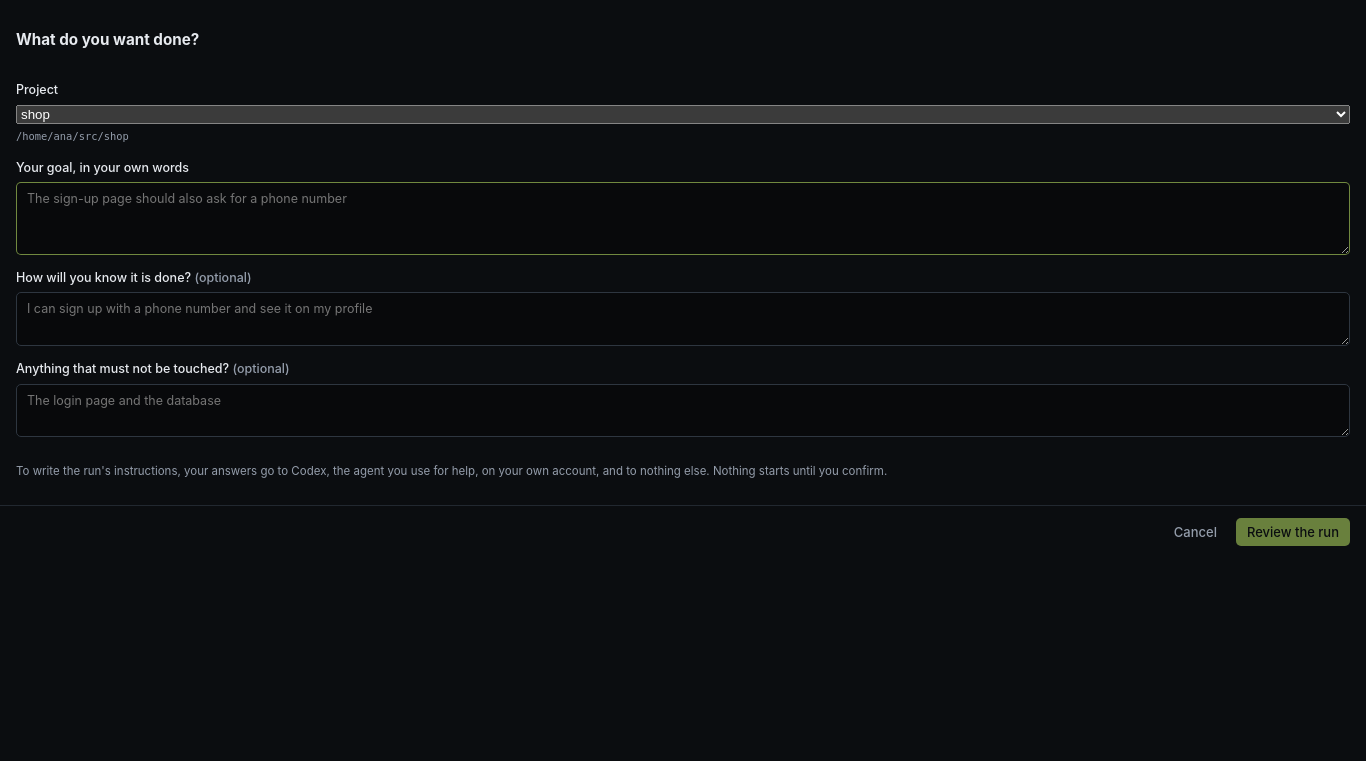
Test: guided run › uses the answers when the helper agent fails, and says why
The width and height of the screenshot is (1366, 761).
Type "Add dark mode" into the text box labelled "Your goal, in your own words" at {"x": 683, "y": 218}, box [16,182,1350,255]
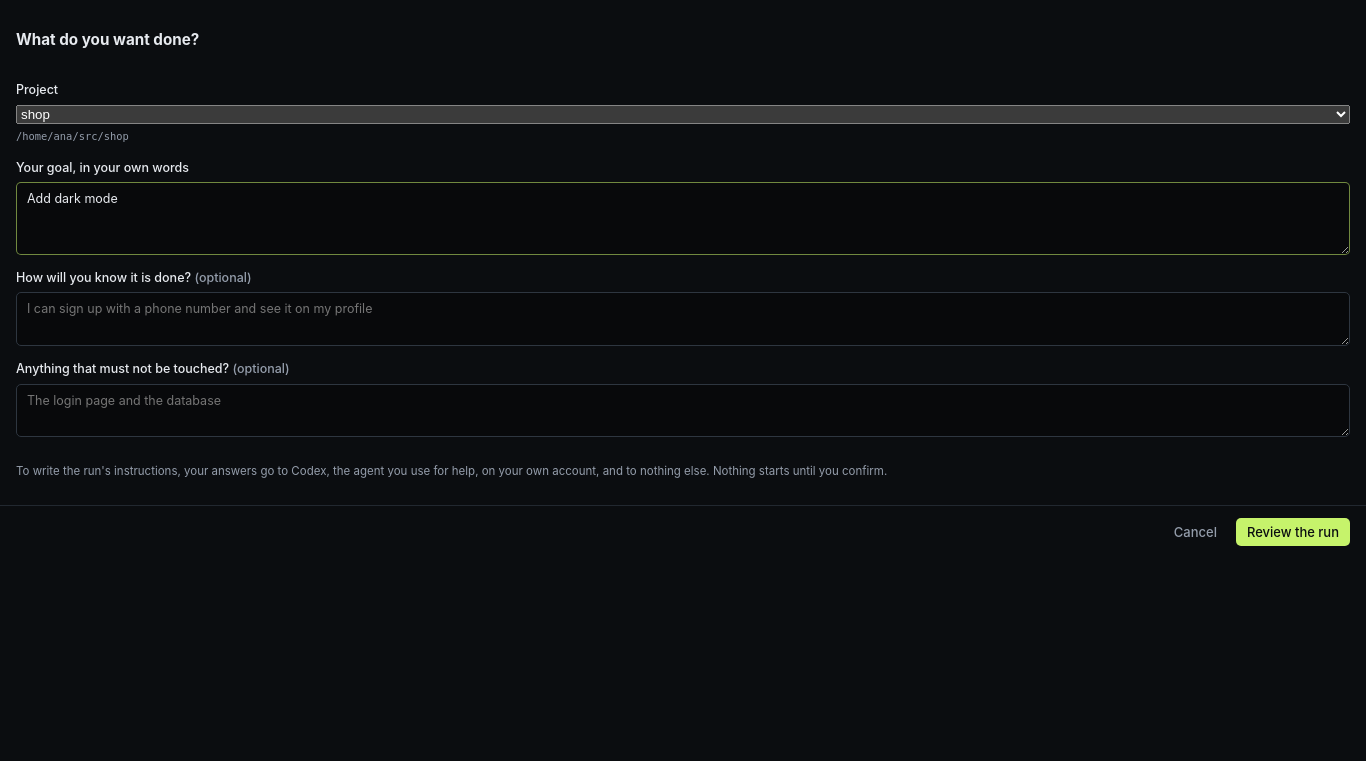
Click the button "Review the run" at {"x": 1293, "y": 532}, box [1236,518,1350,546]
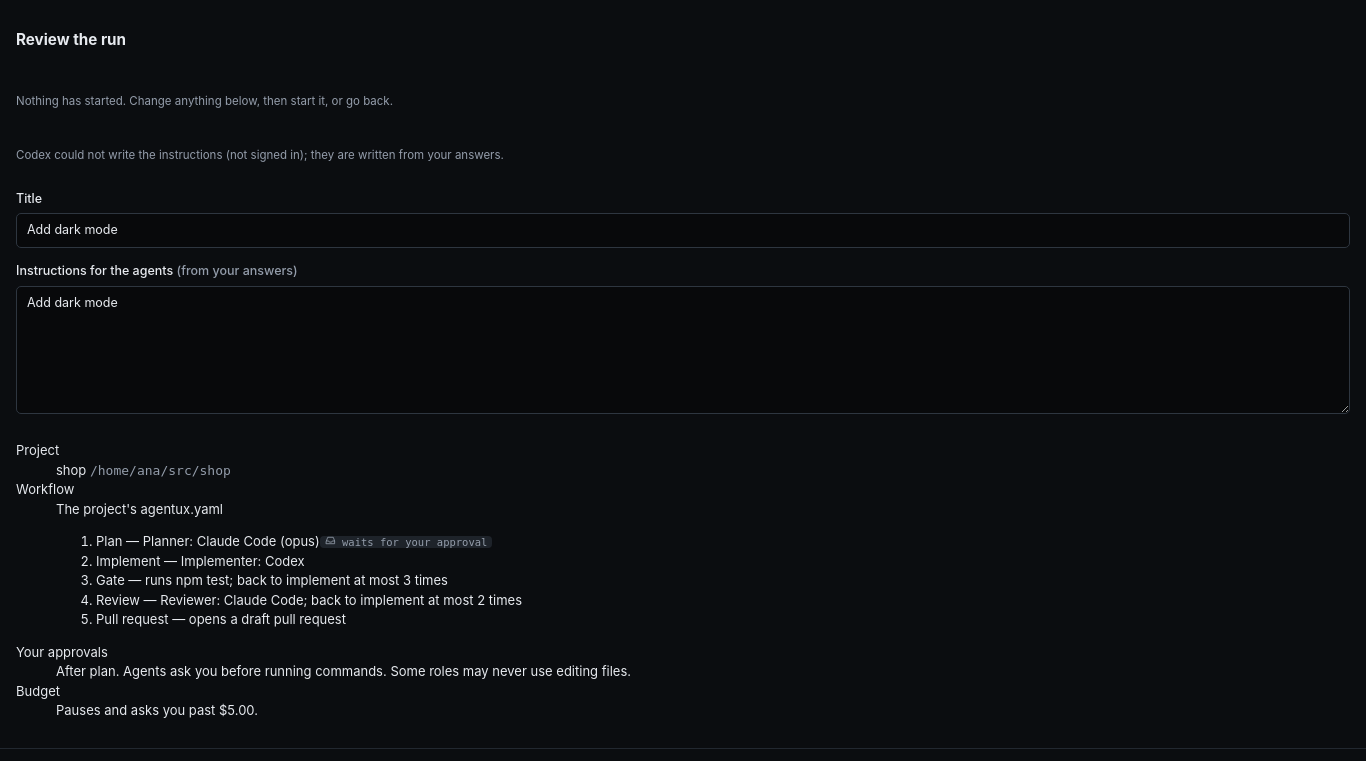
expect the heading "Review the run" is shown: met, box [16,30,126,49]
expect the text box labelled "Instructions for the agents (from your answers)" holds "Add dark mode": met, box [16,286,1350,414]
expect the text "Codex could not write the instructions (not signed in)" is shown: met, box [16,148,504,162]
